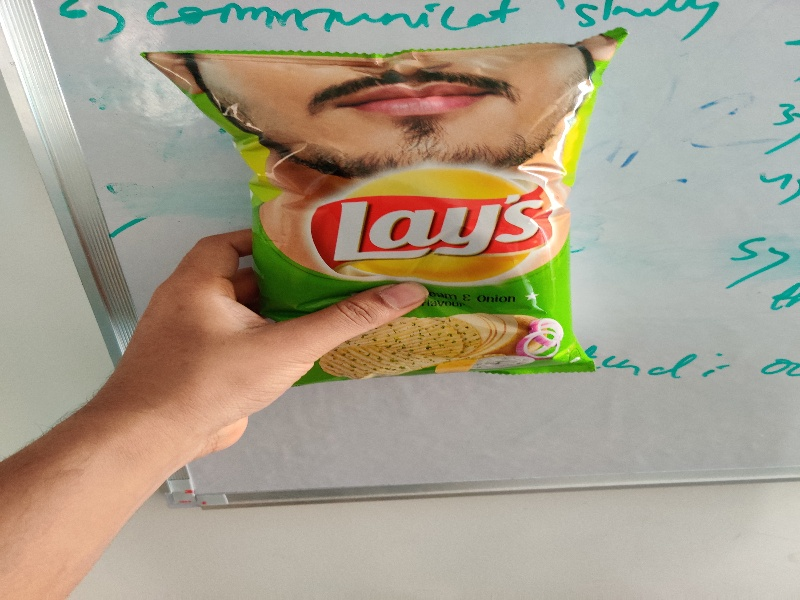lays: (133, 34, 622, 382)
